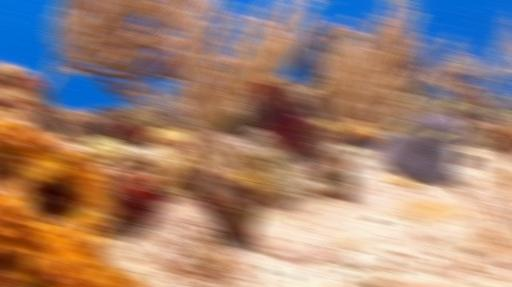Fish: (35, 102, 66, 134), (389, 120, 422, 136), (440, 99, 465, 108), (317, 117, 332, 131), (487, 110, 511, 118), (425, 133, 448, 139), (301, 25, 312, 33), (385, 0, 407, 2)
